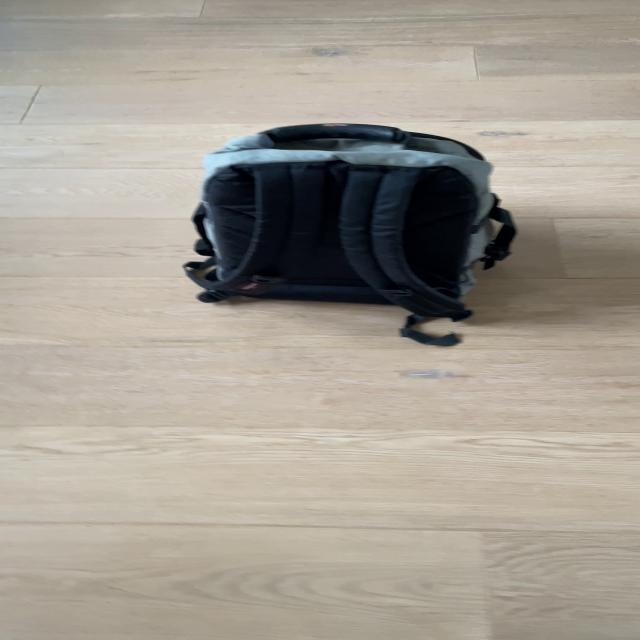backpack: (169, 114, 528, 322)
